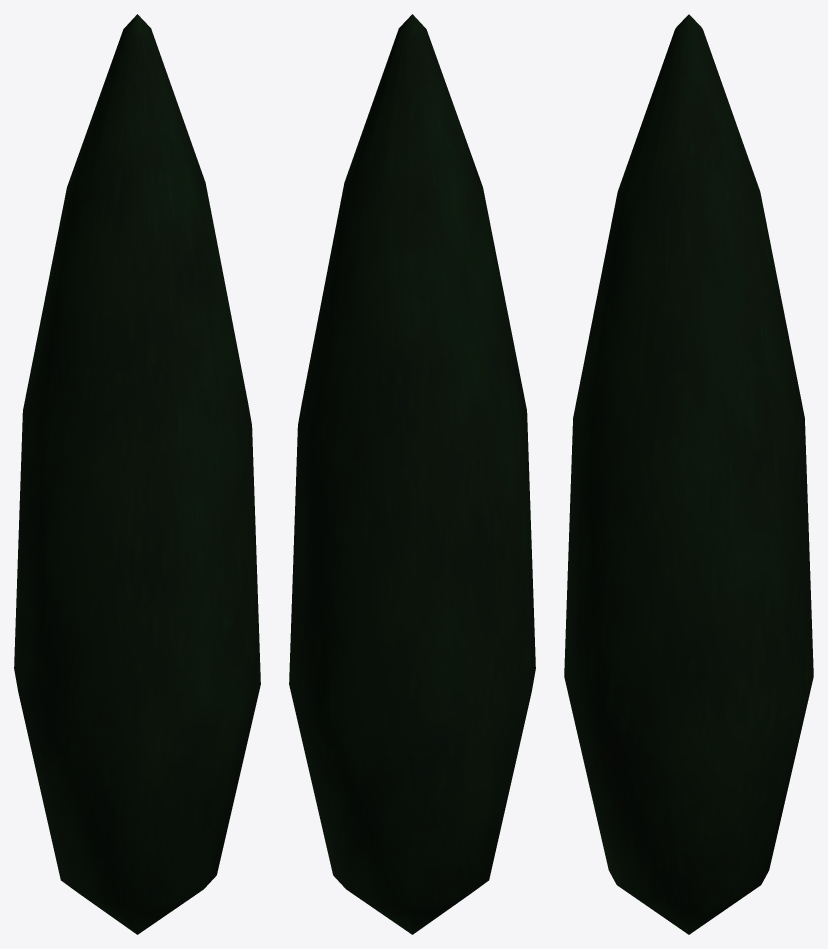
File: cypress.glb
The picture shows the model from 3 angles, left to right: view 1: azimuth 30°, elevation 25°; view 2: azimuth 150°, elevation 25°; view 3: azimuth 270°, elevation 25°; orthographic projection.
Visible parts, largest first — view 1: cypress_Cypress; view 2: cypress_Cypress; view 3: cypress_Cypress.
Boxes of the visible parts, x1,y1,x2,y2 form: cypress_Cypress: [14, 14, 260, 934]; cypress_Cypress: [289, 14, 535, 934]; cypress_Cypress: [564, 14, 813, 934].
Size of the model in its own units: 1.36 by 5.7 by 1.4.
Materials: 1 (1 with a texture image).
